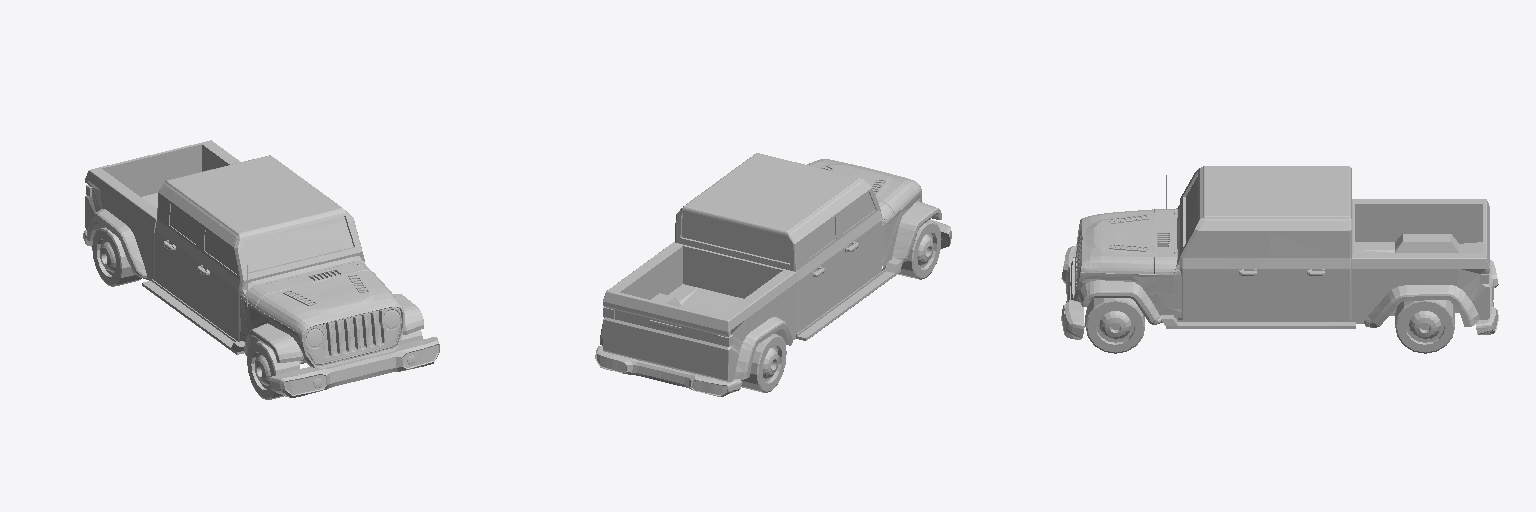
Rendered from truckmodel.obj.
The picture shows the model from 3 angles: view 1: azimuth 30°, elevation 25°; view 2: azimuth 150°, elevation 25°; view 3: azimuth 270°, elevation 25°; orthographic projection.
Parts seen in each view (by area): view 1: initialShadingGroup trunk_lo truck_body truck_mainbody_lo, truck_rear trunk_lo trunk_lo, initialShadingGroup trunk_lo truck_front hood_lo, initialShadingGroup trunk_lo truck_front front_bumper_lo, trunk_lo truck_body front_mirror_lo, initialShadingGroup trunk_lo truck_front front_vent_lo, initialShadingGroup trunk_lo truck_body door_front_right_lo, initialShadingGroup trunk_lo truck_body door_back_right_lo, initialShadingGroup trunk_lo truck_front wheels_lo B_rightwheel_, initialShadingGroup trunk_lo truck_front front_body_lo, initialShadingGroup trunk_lo truck_front B_rightwheel_lo1 wheels, initialShadingGroup trunk_lo truck_body Rstep_board_lo (+6 smaller); view 2: truck_rear trunk_lo trunk_lo, initialShadingGroup trunk_lo truck_body truck_mainbody_lo, trunk_lo truck_body rear_mirror_lo, initialShadingGroup trunk_lo truck_body door_front_right_lo, initialShadingGroup truck_rear trunk_lo rear_bumper_lo, initialShadingGroup trunk_lo truck_body door_back_right_lo, initialShadingGroup trunk_lo truck_front hood_lo, initialShadingGroup trunk_lo truck_front wheels_lo B_rightwheel_, initialShadingGroup trunk_lo truck_front B_rightwheel_lo1 wheels, initialShadingGroup trunk_lo truck_body Rstep_board_lo, initialShadingGroup trunk_lo truck_front F_Rwheel_cover_lo, initialShadingGroup truck_rear trunk_lo rear_Rwheel_cover_lo (+3 smaller); view 3: initialShadingGroup trunk_lo truck_body truck_mainbody_lo, truck_rear trunk_lo trunk_lo, initialShadingGroup trunk_lo truck_front wheels_lo B_leftwheel_l, initialShadingGroup trunk_lo truck_front hood_lo, initialShadingGroup trunk_lo truck_body door_front_left_lo, initialShadingGroup trunk_lo truck_body door_back_left_lo, initialShadingGroup trunk_lo truck_front front_body_lo, initialShadingGroup rear_Lwheel_cover_lo truck_rear trunk_lo, initialShadingGroup trunk_lo Lstep_board_lo truck_body, initialShadingGroup trunk_lo truck_front F_Lwheel_cover_lo, trunk_lo truck_body f_ldoor_mirror_lo, trunk_lo truck_body b_ldoor_mirror_lo (+4 smaller).
Part boxes in pixels (bbox=[...]): initialShadingGroup trunk_lo truck_body truck_mainbody_lo: bbox=[155, 155, 364, 341]; truck_rear trunk_lo trunk_lo: bbox=[85, 140, 239, 280]; initialShadingGroup trunk_lo truck_front hood_lo: bbox=[240, 256, 403, 334]; initialShadingGroup trunk_lo truck_front front_bumper_lo: bbox=[270, 337, 439, 397]; trunk_lo truck_body front_mirror_lo: bbox=[243, 216, 353, 272]; initialShadingGroup trunk_lo truck_front front_vent_lo: bbox=[305, 307, 401, 364]; initialShadingGroup trunk_lo truck_body door_front_right_lo: bbox=[200, 217, 238, 331]; initialShadingGroup trunk_lo truck_body door_back_right_lo: bbox=[165, 192, 203, 301]; initialShadingGroup trunk_lo truck_front wheels_lo B_rightwheel_: bbox=[92, 227, 141, 286]; initialShadingGroup trunk_lo truck_front front_body_lo: bbox=[240, 298, 404, 368]; initialShadingGroup trunk_lo truck_front B_rightwheel_lo1 wheels: bbox=[247, 341, 299, 399]; initialShadingGroup trunk_lo truck_body Rstep_board_lo: bbox=[142, 279, 244, 354]; truck_rear trunk_lo trunk_lo: bbox=[603, 242, 797, 381]; initialShadingGroup trunk_lo truck_body truck_mainbody_lo: bbox=[675, 153, 881, 332]; trunk_lo truck_body rear_mirror_lo: bbox=[682, 213, 788, 262]; initialShadingGroup trunk_lo truck_body door_front_right_lo: bbox=[836, 182, 880, 287]; initialShadingGroup truck_rear trunk_lo rear_bumper_lo: bbox=[595, 346, 741, 396]; initialShadingGroup trunk_lo truck_body door_back_right_lo: bbox=[801, 205, 839, 307]; initialShadingGroup trunk_lo truck_front hood_lo: bbox=[807, 159, 920, 224]; initialShadingGroup trunk_lo truck_front wheels_lo B_rightwheel_: bbox=[741, 334, 786, 392]; initialShadingGroup trunk_lo truck_front B_rightwheel_lo1 wheels: bbox=[898, 220, 941, 279]; initialShadingGroup trunk_lo truck_body Rstep_board_lo: bbox=[796, 258, 902, 340]; initialShadingGroup trunk_lo truck_front F_Rwheel_cover_lo: bbox=[892, 201, 941, 264]; initialShadingGroup truck_rear trunk_lo rear_Rwheel_cover_lo: bbox=[735, 317, 792, 379]; initialShadingGroup trunk_lo truck_body truck_mainbody_lo: bbox=[1180, 166, 1351, 319]; truck_rear trunk_lo trunk_lo: bbox=[1352, 199, 1489, 323]; initialShadingGroup trunk_lo truck_front wheels_lo B_leftwheel_l: bbox=[1085, 298, 1454, 353]; initialShadingGroup trunk_lo truck_front hood_lo: bbox=[1080, 205, 1180, 274]; initialShadingGroup trunk_lo truck_body door_front_left_lo: bbox=[1185, 221, 1259, 310]; initialShadingGroup trunk_lo truck_body door_back_left_lo: bbox=[1267, 221, 1328, 310]; initialShadingGroup trunk_lo truck_front front_body_lo: bbox=[1071, 224, 1181, 322]; initialShadingGroup rear_Lwheel_cover_lo truck_rear trunk_lo: bbox=[1364, 285, 1479, 327]; initialShadingGroup trunk_lo Lstep_board_lo truck_body: bbox=[1161, 315, 1355, 328]; initialShadingGroup trunk_lo truck_front F_Lwheel_cover_lo: bbox=[1078, 280, 1161, 324]; trunk_lo truck_body f_ldoor_mirror_lo: bbox=[1191, 233, 1256, 254]; trunk_lo truck_body b_ldoor_mirror_lo: bbox=[1270, 233, 1325, 254].
Size of the model in its own units: 6.56 by 4.74 by 14.81.